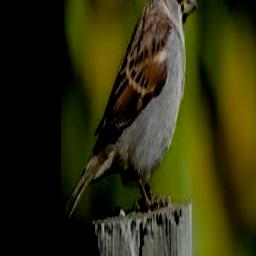Sparrow: (63, 0, 197, 218)
